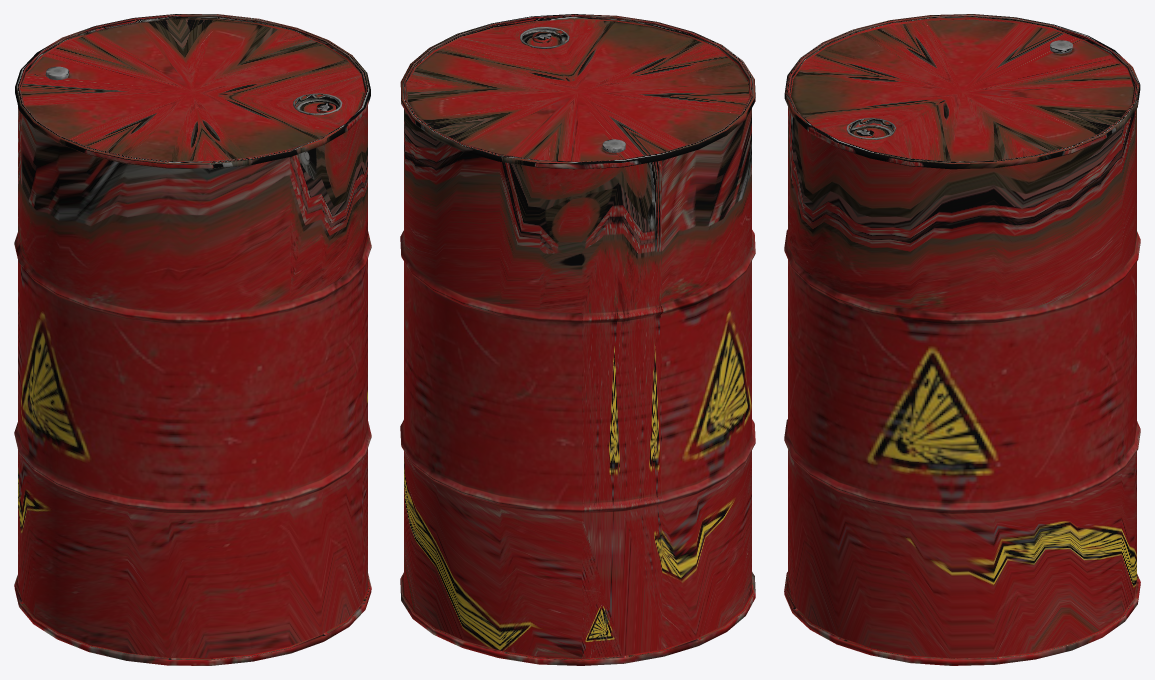
The model's file is Barrel_01.glb.
The picture shows the model from 3 angles, left to right: view 1: azimuth 30°, elevation 25°; view 2: azimuth 150°, elevation 25°; view 3: azimuth 270°, elevation 25°; orthographic projection.
Parts seen in each view (by area): view 1: Barrel_01; view 2: Barrel_01; view 3: Barrel_01.
Boxes of the visible parts, x1,y1,x2,y2 form: Barrel_01: [14, 14, 371, 665]; Barrel_01: [400, 14, 755, 665]; Barrel_01: [784, 14, 1140, 665].
Bounding box in the file's own units: 0.563 × 0.88 × 0.563.
1 material, 1 textured.
